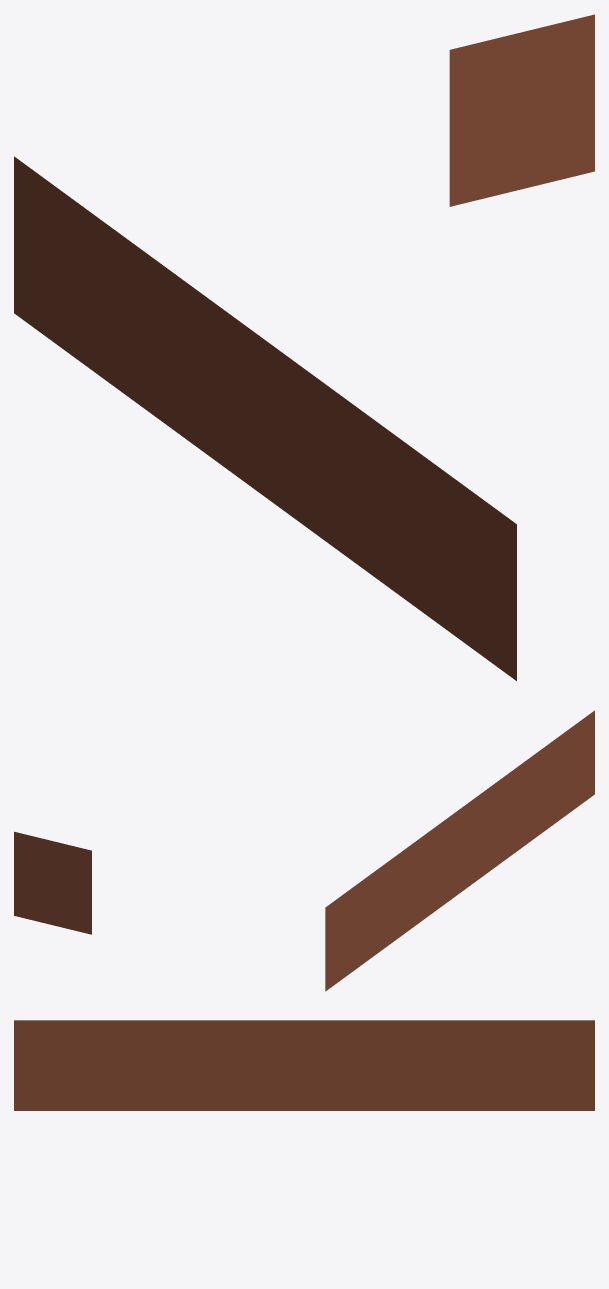
Rendered from 0611-Buildings-shell-pieces-facade-bay-wall-round-an-opening-reveals-sill-head-emitBa.glb.
3 views of the same model, one above another, from view 1: azimuth 30°, elevation 25°; view 2: azimuth 150°, elevation 25°; view 3: azimuth 270°, elevation 25° (orthographic). The views are drawn at different scales.
Parts seen in each view (by area): view 1: emitBay; view 2: emitBay; view 3: emitBay.
Boxes of the visible parts, x1=… form: emitBay: x1=14, y1=14, x2=594, y2=680; emitBay: x1=14, y1=710, x2=594, y2=991; emitBay: x1=14, y1=1020, x2=594, y2=1110.
Size of the model in its own units: 12 by 3.1 by 18.
